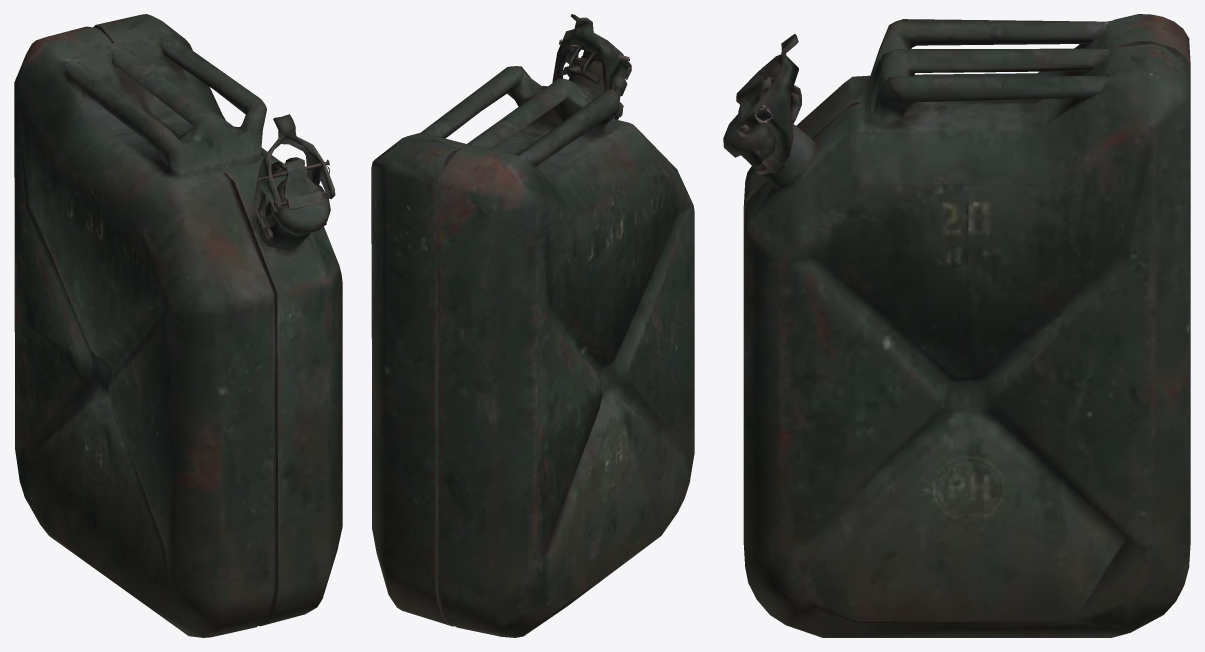
The model's file is jerry.glb.
The picture shows the model from 3 angles, left to right: view 1: azimuth 30°, elevation 25°; view 2: azimuth 150°, elevation 25°; view 3: azimuth 270°, elevation 25°; orthographic projection. The views are drawn at different scales.
Parts seen in each view (by area): view 1: metal_jerrycan_green_pin; view 2: metal_jerrycan_green_pin; view 3: metal_jerrycan_green_pin.
Boxes of the visible parts, box(x1,y1,x2,y2) form: metal_jerrycan_green_pin: box(14, 14, 342, 637); metal_jerrycan_green_pin: box(371, 14, 694, 637); metal_jerrycan_green_pin: box(723, 14, 1190, 637).
Bounding box in the file's own units: 0.1709 × 0.4998 × 0.3604.
Materials: 1 (1 with a texture image).
